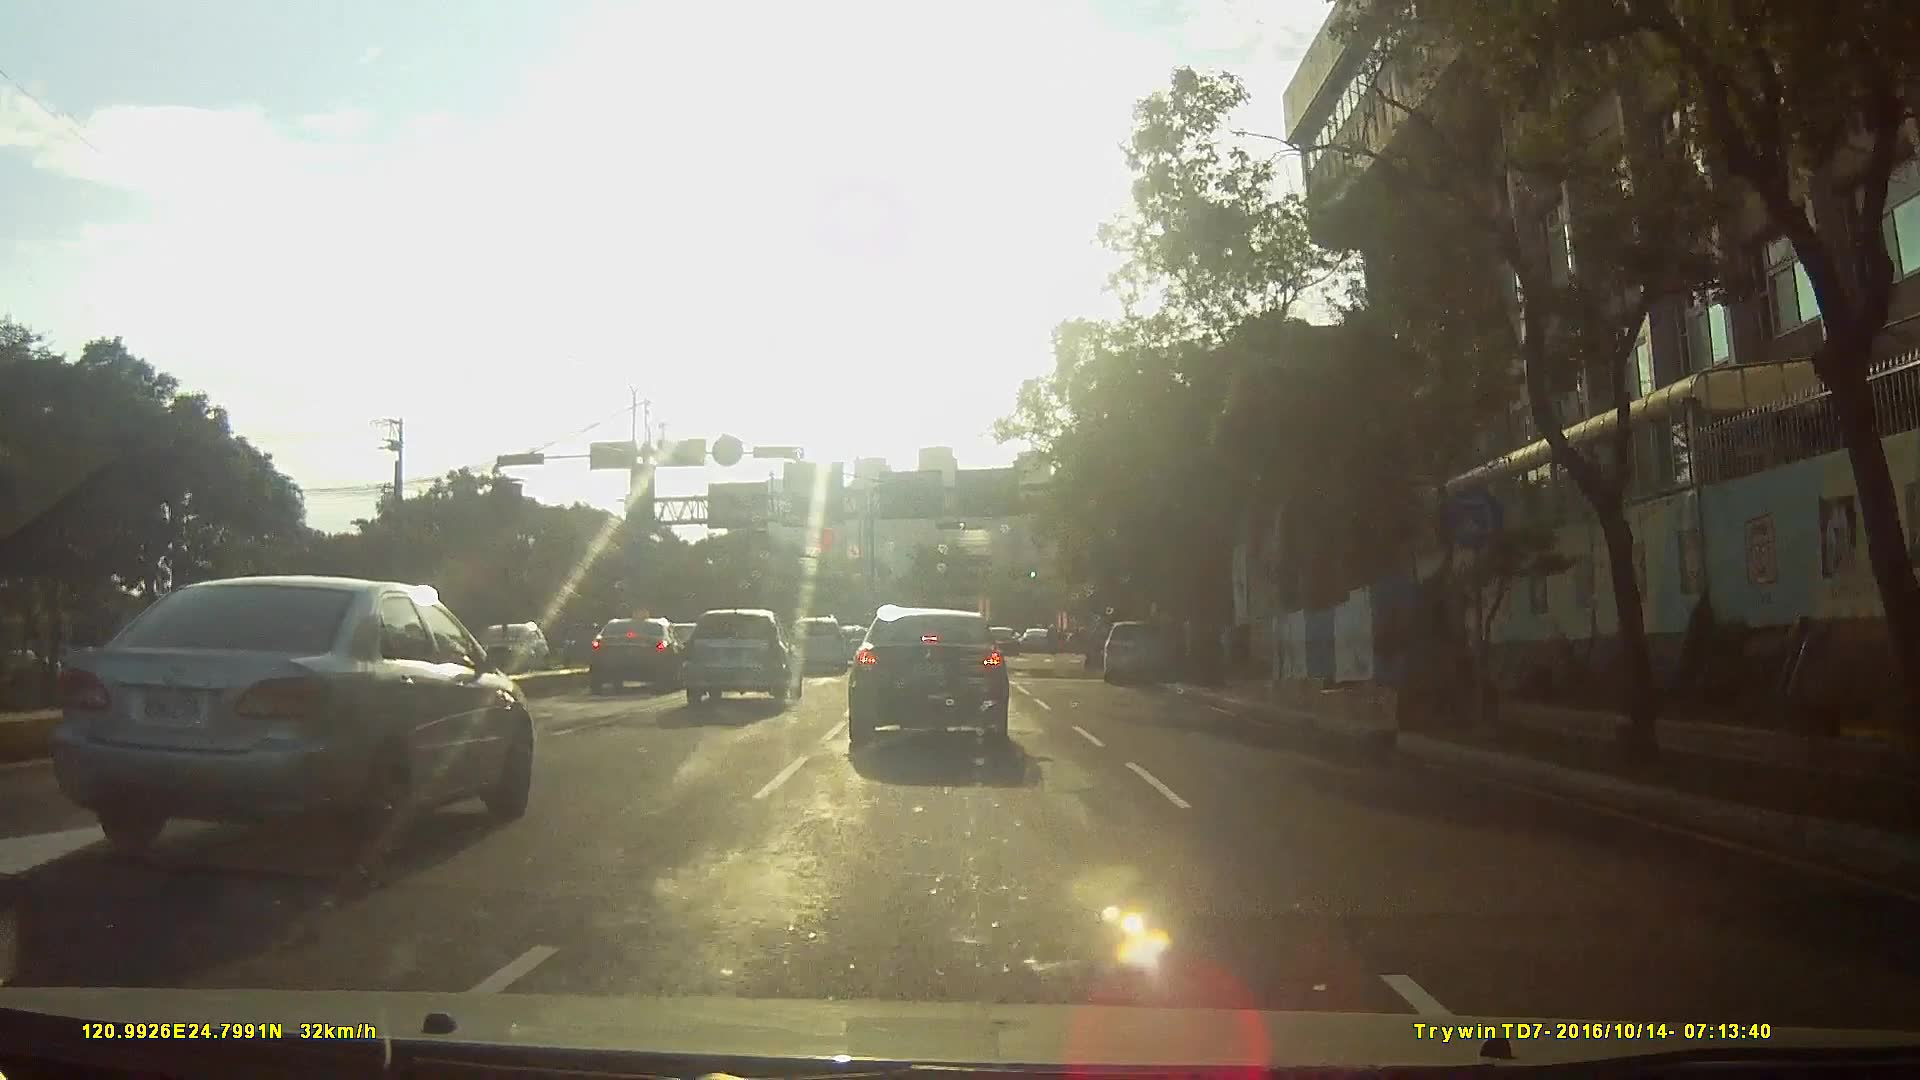vehicle: (47, 554, 543, 873), (839, 604, 1025, 767), (676, 600, 802, 707), (568, 607, 678, 688), (463, 611, 549, 675), (1104, 611, 1179, 679), (785, 611, 851, 669), (1019, 620, 1062, 647)
